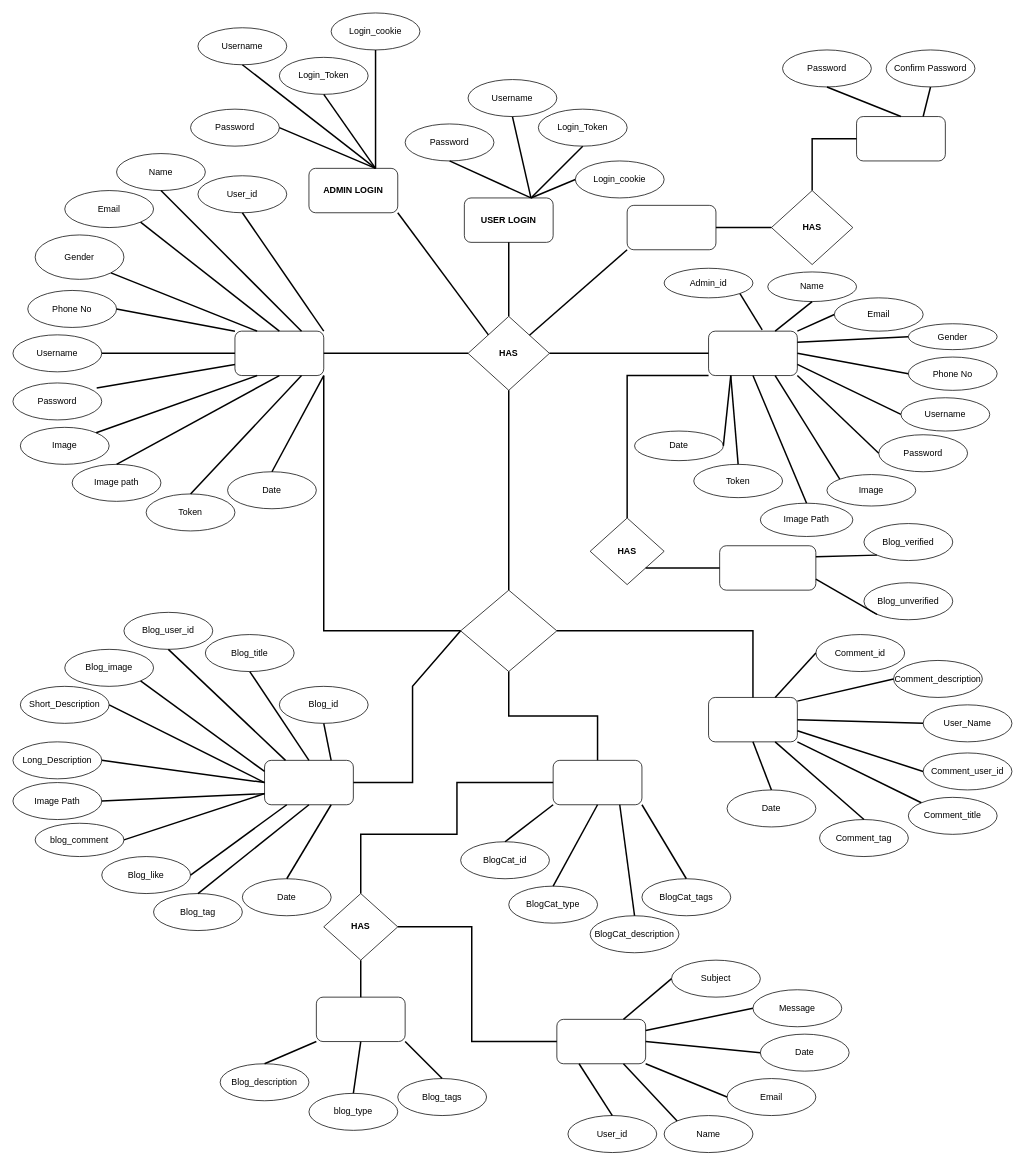
The diagram is 1025 pixels wide and 1166 high, and some of its shapes have lost their labels. The shapes that lost their labels are listed below. From the top down, each one's centre as x and y in pixels, then its label:
At (x=900, y=138): "Send_Email".
At (x=671, y=227): "Forgot Password".
At (x=279, y=353): "USER".
At (x=752, y=353): "ADMIN".
At (x=767, y=567): "BLOG PERMISSION".
At (x=508, y=630): "MANAGE".
At (x=752, y=719): "COMMENT".
At (x=308, y=782): "BLOG".
At (x=597, y=782): "BLOG CATEGORY".
At (x=360, y=1019): "BLOG TYPE".
At (x=601, y=1041): "Feedback".
